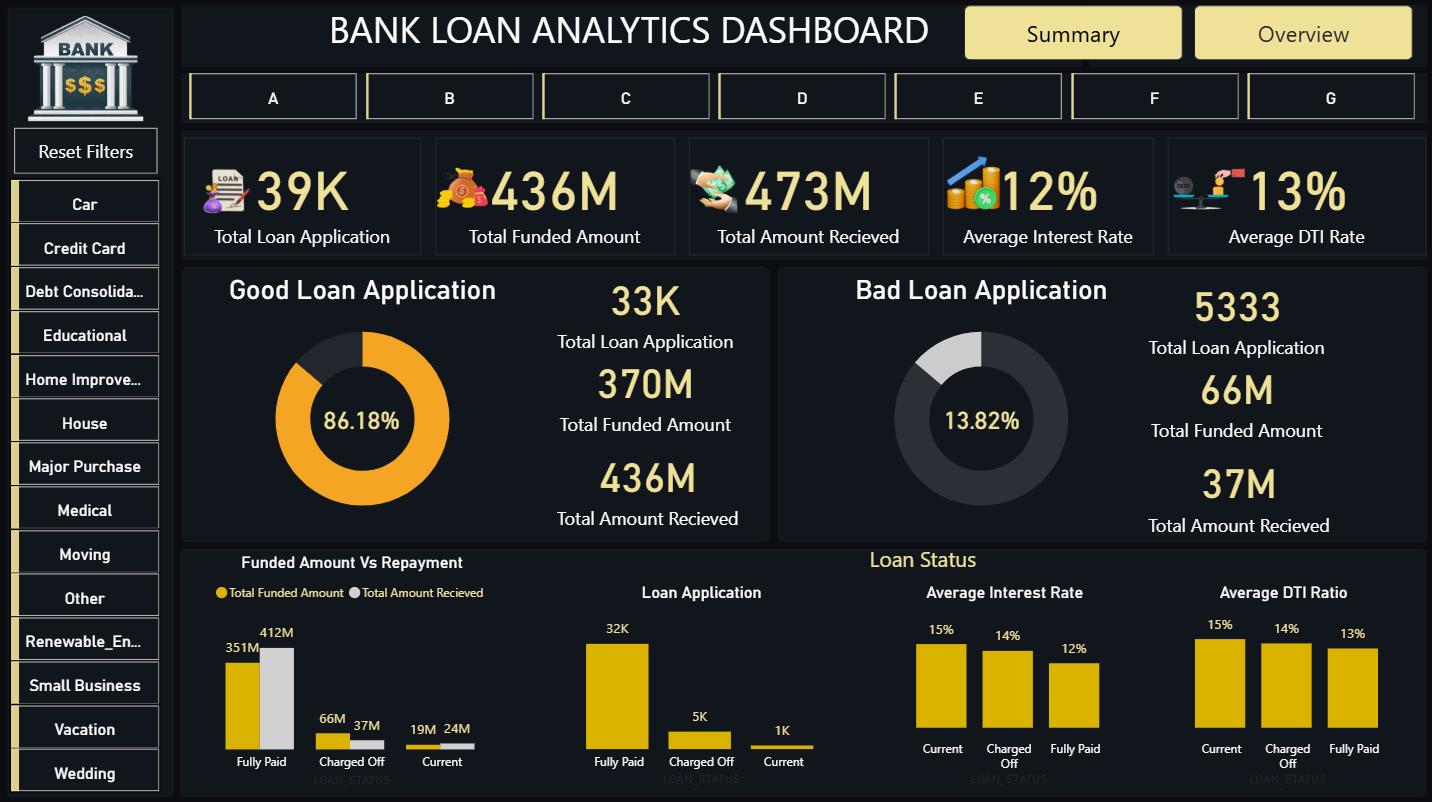

What the dashboard file says about the page in this screenshot:
{"tool":"powerbi","page":{"name":"Summary","canvas":[1280,720],"ordinal":0},"visuals":[{"type":"card","fields":{"Values":["financial_loan.Total Loan Application"]},"box":[165.3,123.1,211.1,105],"z":0},{"type":"card","fields":{"Values":["financial_loan.Total Funded Amount"]},"box":[388.8,123.1,213.5,105],"z":1000},{"type":"card","fields":{"Values":["financial_loan.Total Amount Recieved"]},"box":[614.7,123.1,213.5,105],"z":2000},{"type":"card","fields":{"Values":["financial_loan.Average Interest Rate"]},"box":[840.6,123.1,188.2,105],"z":3000},{"type":"card","fields":{"Values":["financial_loan.Average DTI Rate"]},"box":[1041.2,123.1,230.4,105],"z":4000},{"type":"image","box":[176.1,138.7,54.3,63.9],"z":5000},{"type":"image","box":[363.1,132.7,101.3,63.9],"z":6000},{"type":"image","box":[599.6,143.6,73.6,53.1],"z":7000},{"type":"image","box":[839.7,135.1,56.7,59.1],"z":8000},{"type":"image","box":[1041.2,132.7,73.6,73.6],"z":9000},{"type":"donutChart","title":"Good Loan Application ","fields":{"Category":["financial_loan.Good_vs_Bad_Loan"],"Y":["financial_loan.Total Loan Application"]},"box":[165.9,245.3,316,230.8],"z":10000},{"type":"donutChart","title":"Bad Loan Application ","fields":{"Category":["financial_loan.Good_vs_Bad_Loan"],"Y":["financial_loan.Total Loan Application"]},"box":[721.4,245.3,307.3,230.8],"z":11000},{"type":"card","fields":{"Values":["financial_loan.Good Loan %"]},"box":[254.6,337.8,136.3,74.8],"z":12000},{"type":"card","fields":{"Values":["financial_loan.Bad Loan %"]},"box":[807.1,337.8,136.3,74.8],"z":13000},{"type":"card","fields":{"Values":["financial_loan.Total Loan Application"]},"box":[489.2,229,172.1,93.9],"z":14000},{"type":"card","fields":{"Values":["financial_loan.Total Funded Amount"]},"box":[489.2,308.6,172.1,83.9],"z":15000},{"type":"card","fields":{"Values":["financial_loan.Total Amount Recieved"]},"box":[489.2,392.5,176.4,82.5],"z":16000},{"type":"card","fields":{"Values":["financial_loan.Total Loan Application"]},"box":[1015.8,234.4,172.1,93.9],"z":17000},{"type":"card","fields":{"Values":["financial_loan.Total Funded Amount"]},"box":[1015.8,314.1,172.1,83.9],"z":18000},{"type":"card","fields":{"Values":["financial_loan.Total Amount Recieved"]},"box":[1015.8,398,176.4,82.5],"z":19000},{"type":"clusteredColumnChart","title":"Funded Amount Vs Repayment","fields":{"Category":["financial_loan.LOAN_STATUS"],"Y":["financial_loan.Total Funded Amount","financial_loan.Total Amount Recieved"]},"box":[164.8,493.1,299.4,212.6],"z":20000},{"type":"clusteredColumnChart","title":"Loan Application","fields":{"Category":["financial_loan.LOAN_STATUS"],"Y":["financial_loan.Total Loan Application"]},"box":[489.1,519.4,274.1,186.1],"z":21000},{"type":"textbox","box":[721.5,481.4,202.7,38.6],"z":22000},{"type":"clusteredColumnChart","title":"Average Interest Rate","fields":{"Category":["financial_loan.LOAN_STATUS"],"Y":["financial_loan.Average Interest Rate"]},"box":[780.5,519.4,230.8,186.1],"z":23000},{"type":"clusteredColumnChart","title":"Average DTI Ratio","fields":{"Category":["financial_loan.LOAN_STATUS"],"Y":["financial_loan.Average DTI Rate"]},"box":[1028.7,519.4,230.8,186.1],"z":24000},{"type":"image","box":[0,0,154.4,123.1],"z":25000},{"type":"advancedSlicerVisual","fields":{"Values":["financial_loan.PURPOSE"]},"box":[4.8,154.4,144.8,565.8],"z":26000},{"type":"advancedSlicerVisual","fields":{"Values":["financial_loan.GRADE"]},"box":[165.3,61.5,1106.3,51.9],"z":27000},{"type":"actionButton","box":[13.3,114.6,127.9,41],"z":28000},{"type":"textbox","box":[187,0,748,61.5],"z":29000},{"type":"pageNavigator","box":[859,6,400.5,49.5],"z":29001}]}

Visuals, with their boxes in screenshot pixels (x1, y1, x2, y2), scaled from the page's 1280x720 canvas onto the 1432x802 screenshot:
card - financial_loan.Total Loan Application: (185, 137, 421, 254)
card - financial_loan.Total Funded Amount: (435, 137, 674, 254)
card - financial_loan.Total Amount Recieved: (688, 137, 927, 254)
card - financial_loan.Average Interest Rate: (940, 137, 1151, 254)
card - financial_loan.Average DTI Rate: (1165, 137, 1423, 254)
image: (197, 154, 258, 226)
image: (406, 148, 520, 219)
image: (671, 160, 753, 219)
image: (939, 150, 1003, 216)
image: (1165, 148, 1247, 230)
"Good Loan Application " donutChart: (186, 273, 539, 530)
"Bad Loan Application " donutChart: (807, 273, 1151, 530)
card - financial_loan.Good Loan %: (285, 376, 437, 460)
card - financial_loan.Bad Loan %: (903, 376, 1055, 460)
card - financial_loan.Total Loan Application: (547, 255, 740, 360)
card - financial_loan.Total Funded Amount: (547, 344, 740, 437)
card - financial_loan.Total Amount Recieved: (547, 437, 745, 529)
card - financial_loan.Total Loan Application: (1136, 261, 1329, 366)
card - financial_loan.Total Funded Amount: (1136, 350, 1329, 443)
card - financial_loan.Total Amount Recieved: (1136, 443, 1334, 535)
"Funded Amount Vs Repayment" clusteredColumnChart: (184, 549, 519, 786)
"Loan Application" clusteredColumnChart: (547, 579, 854, 786)
textbox: (807, 536, 1034, 579)
"Average Interest Rate" clusteredColumnChart: (873, 579, 1131, 786)
"Average DTI Ratio" clusteredColumnChart: (1151, 579, 1409, 786)
image: (0, 0, 173, 137)
advancedSlicerVisual - financial_loan.PURPOSE: (5, 172, 167, 801)
advancedSlicerVisual - financial_loan.GRADE: (185, 69, 1423, 126)
actionButton: (15, 128, 158, 173)
textbox: (209, 0, 1046, 69)
pageNavigator: (961, 7, 1409, 62)
